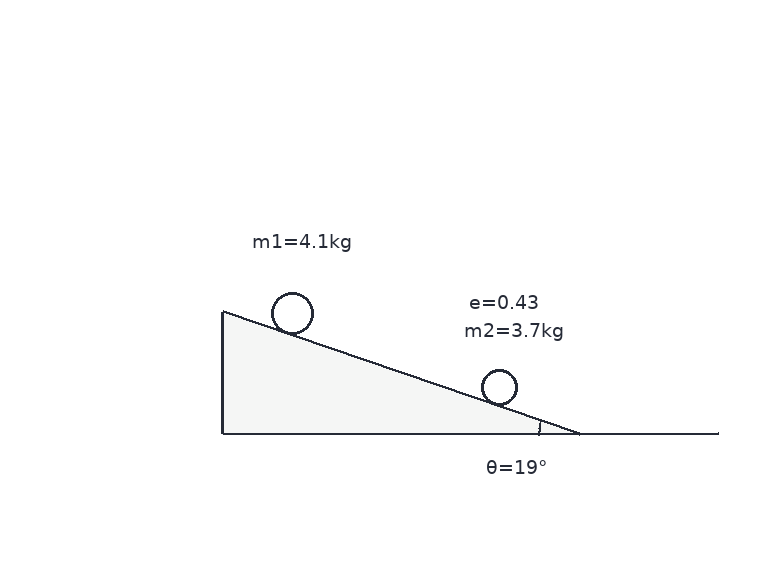ball: (269, 290, 315, 336), (479, 367, 519, 407)
ramp: (221, 309, 581, 436)
